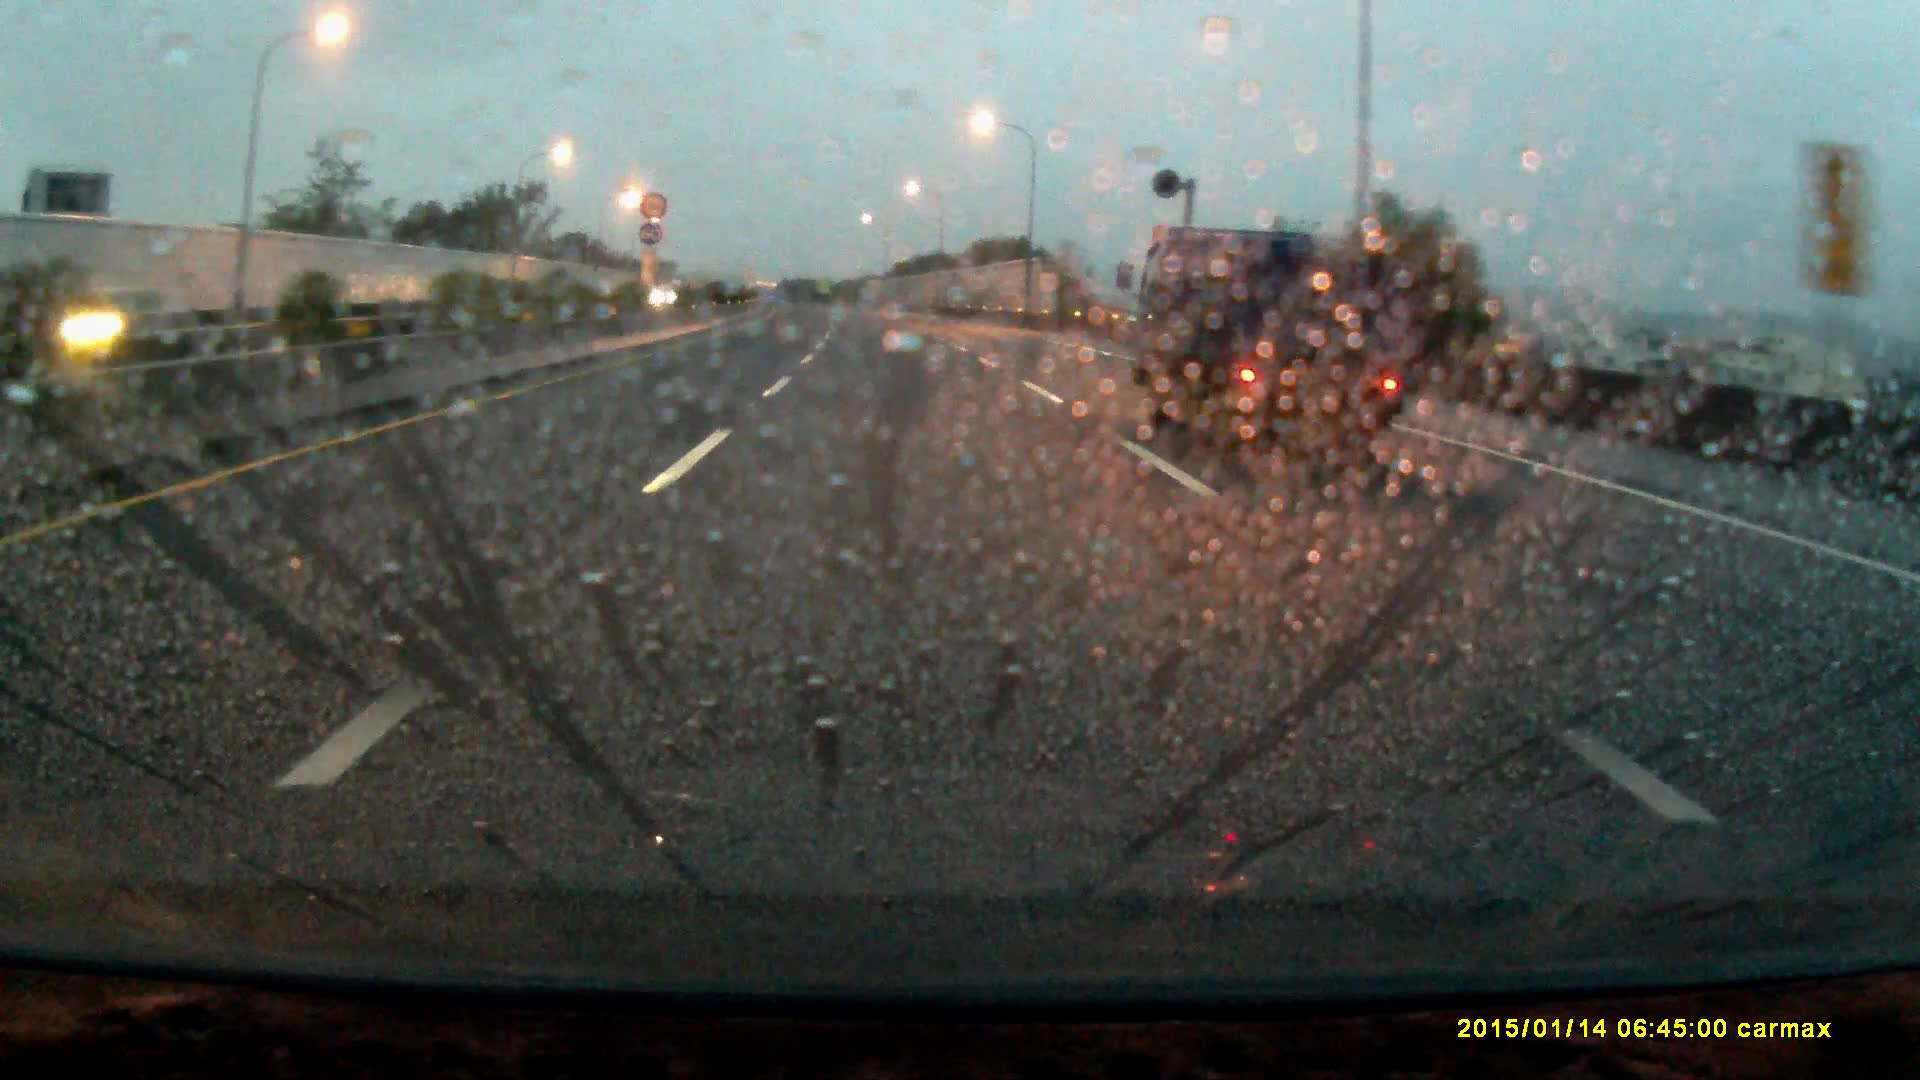vehicle: (1159, 216, 1429, 493)
